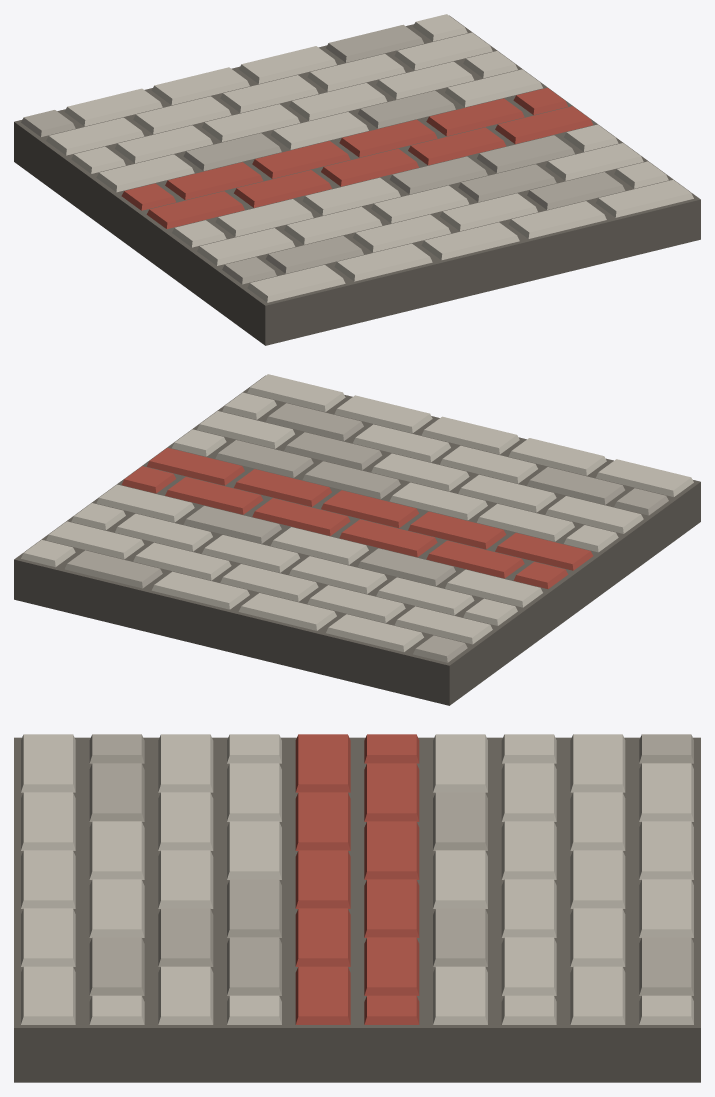
File: piso_paver_faixa.glb
3 renders of one model, top to bottom at view 1: azimuth 30°, elevation 25°; view 2: azimuth 150°, elevation 25°; view 3: azimuth 270°, elevation 25°, orthographic. The views are drawn at different scales.
Visible parts, largest first — view 1: piso_paver_faixa; view 2: piso_paver_faixa; view 3: piso_paver_faixa.
Part boxes in pixels (bbox=[...]): piso_paver_faixa: bbox=[14, 14, 700, 345]; piso_paver_faixa: bbox=[14, 374, 700, 705]; piso_paver_faixa: bbox=[14, 734, 700, 1082].
Bounding box in the file's own units: 1 × 0.1 × 1.
